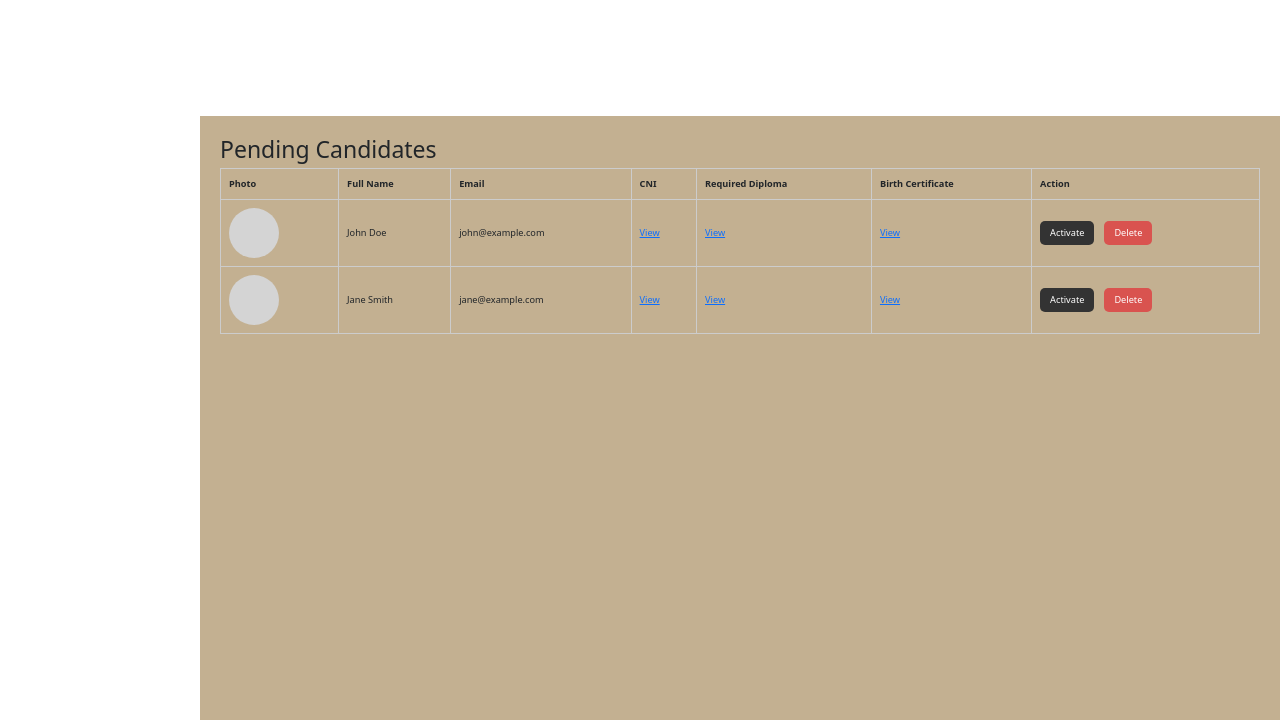
CandidateActivation › activates candidate
Click the button "Activate" in the row of "John Doe": (1067, 233) [1040,221,1094,245]
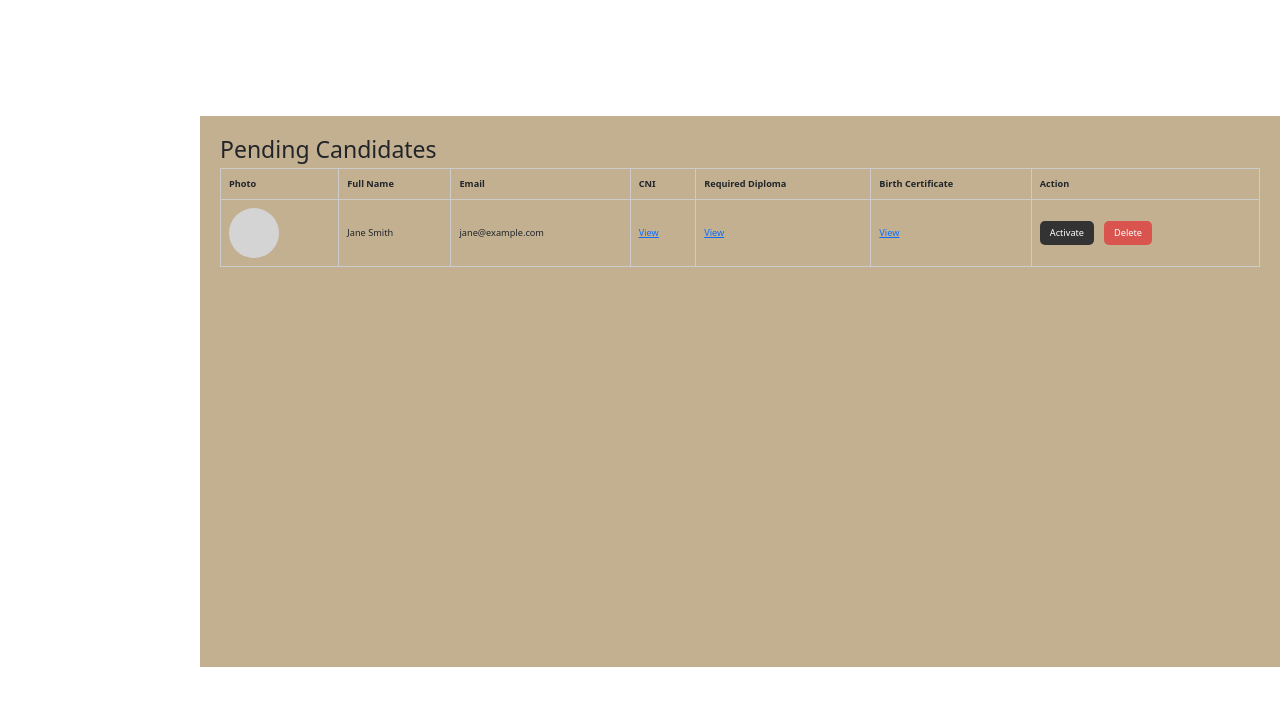
Result: the text "John Doe" is gone
